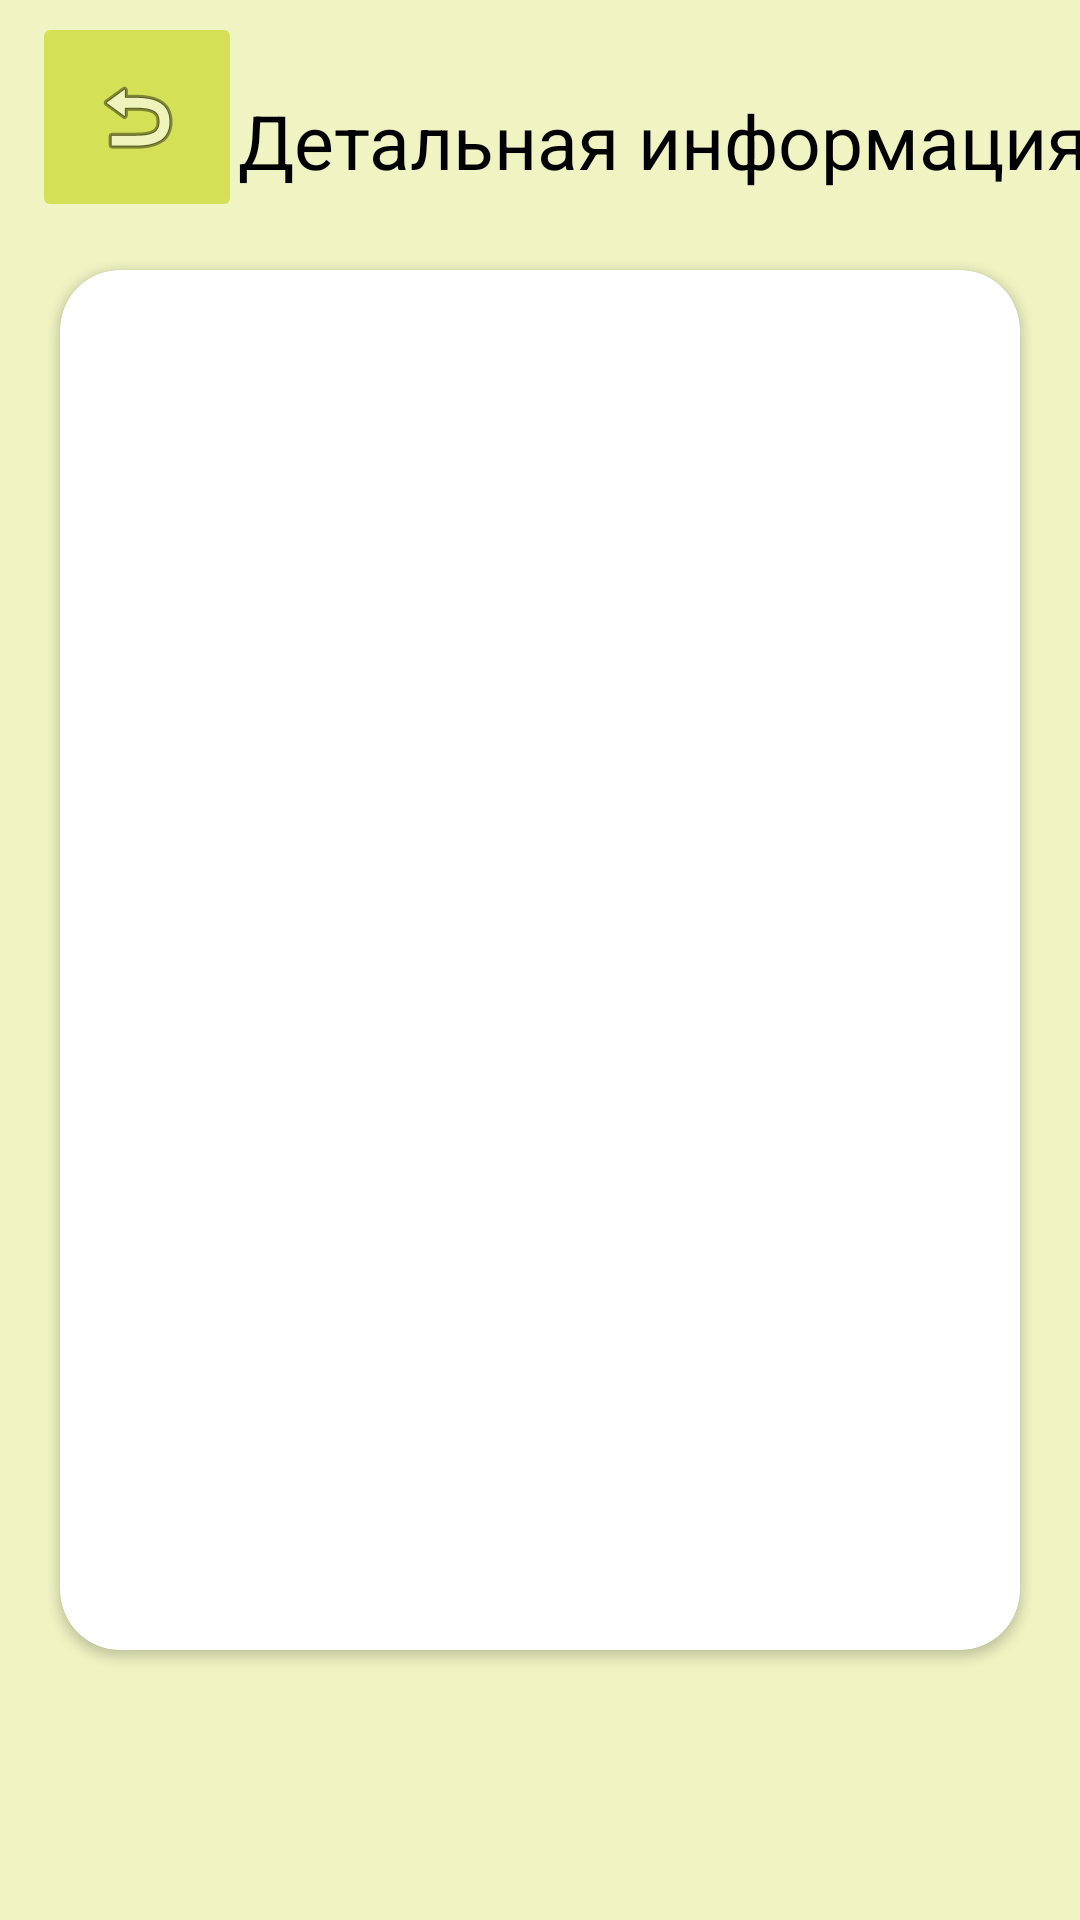

Screen size 1080×1920. Icon name, then its center in pixels as [x,y]:
revert: [137,117]
